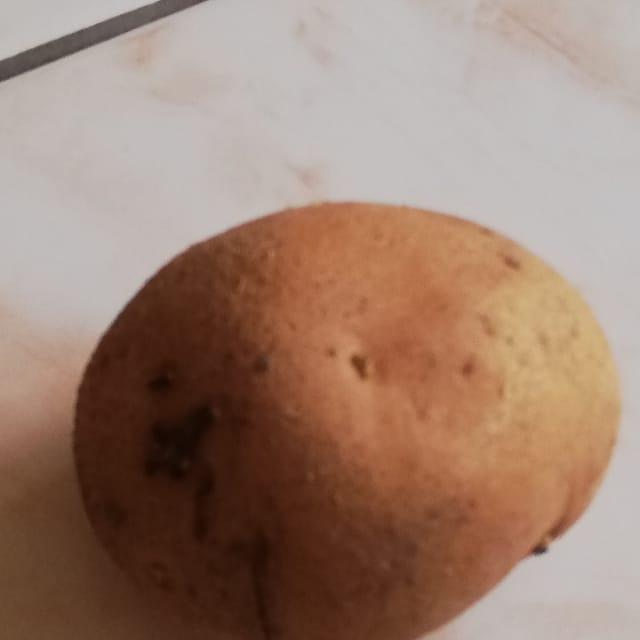potato: (51, 176, 638, 640)
